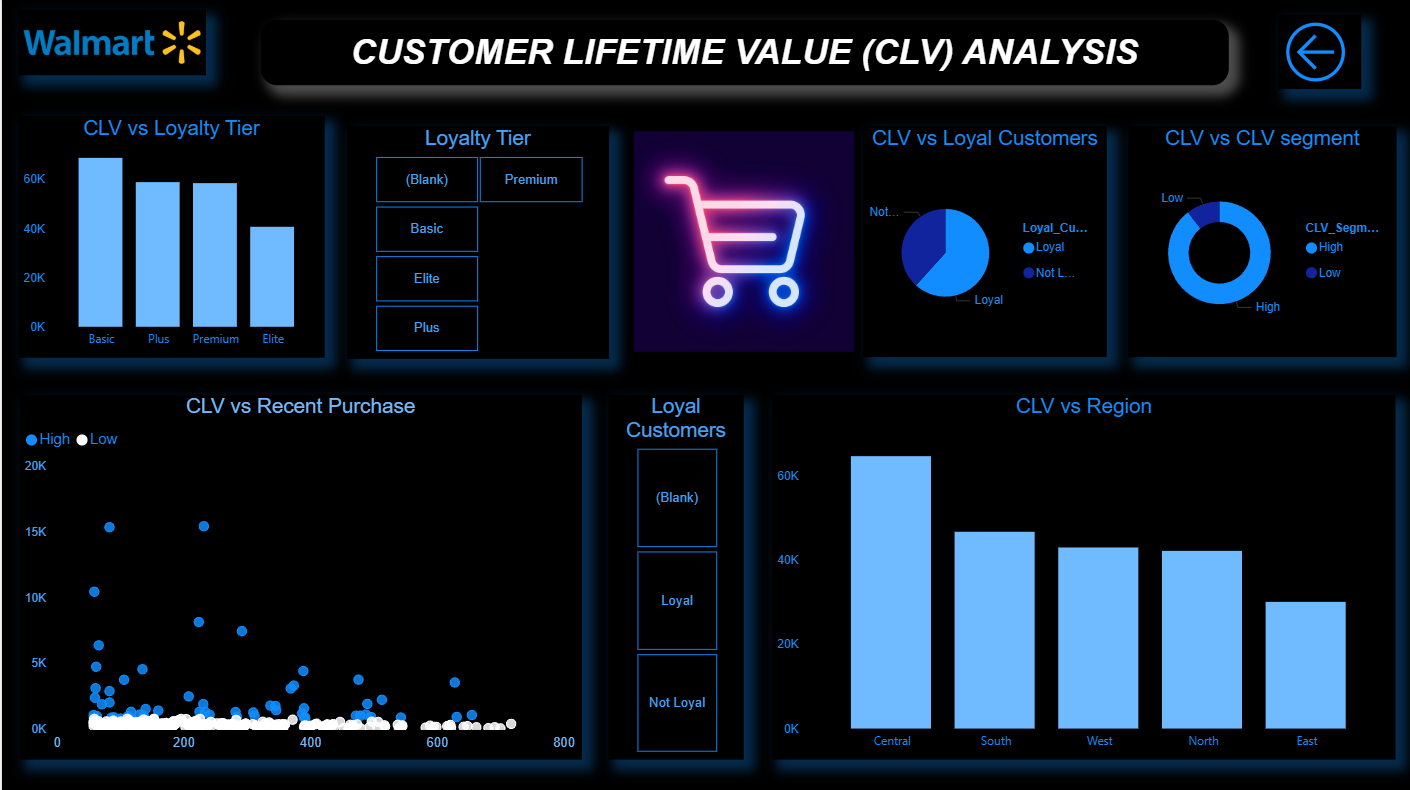

What the dashboard file says about the page in this screenshot:
{"tool":"powerbi","page":{"name":"Customer Lifetime Value (CLV)","canvas":[1280,720],"ordinal":5},"visuals":[{"type":"scatterChart","title":"CLV vs Recent Purchase","fields":{"X":["CLV_Table.Days_Since_last_transaction"],"Y":["CLV_Table.CLV"],"Series":["CLV_Table.CLV_Segment"]},"box":[15.3,360.3,507.8,329.7],"z":0},{"type":"clusteredColumnChart","title":"CLV vs Loyalty Tier","fields":{"Y":["Sum(CLV_Table.CLV)"],"Category":["Loyalty_Program.Loyalty_Tier"]},"box":[15.1,108.1,276.7,218.6],"z":1000},{"type":"clusteredColumnChart","title":"CLV vs Region","fields":{"Y":["Sum(CLV_Table.CLV)"],"Category":["Customer_Demographics.Region"]},"box":[695.7,360.3,563.5,329.7],"z":2000},{"type":"image","box":[15.1,12.8,169.8,59.3],"z":3000},{"type":"textbox","box":[233.7,20.9,874.4,59.3],"z":4000},{"type":"image","box":[564,117.4,214,209.3],"z":5000},{"type":"actionButton","box":[1152.3,17.4,75.6,67.4],"z":6000},{"type":"slicer","title":"Loyalty Tier","fields":{"Values":["Loyalty_Program.Loyalty_Tier"]},"box":[311.7,116.9,236.5,210.1],"z":7000},{"type":"slicer","title":"Loyal Customers","fields":{"Values":["Transaction_count.Loyal_Customers "]},"box":[548.2,360.3,122.4,329.7],"z":8000},{"type":"pieChart","title":"CLV vs Loyal Customers","fields":{"Y":["Avg(CLV_Table.CLV)"],"Category":["Transaction_count.Loyal_Customers "]},"box":[777.7,116.9,219.8,208.7],"z":9000},{"type":"donutChart","title":"CLV vs CLV segment","fields":{"Y":["Avg(CLV_Table.CLV)"],"Category":["CLV_Table.CLV_Segment"]},"box":[1017,116.9,242.1,208.7],"z":10000}]}

Visuals, with their boxes in screenshot pixels (x1, y1, x2, y2), scaled from the page's 1280x720 canvas onto the 1410x790 screenshot:
"CLV vs Recent Purchase" scatterChart: 17, 395, 576, 757
"CLV vs Loyalty Tier" clusteredColumnChart: 17, 119, 321, 358
"CLV vs Region" clusteredColumnChart: 766, 395, 1387, 757
image: 17, 14, 204, 79
textbox: 257, 23, 1221, 88
image: 621, 129, 857, 358
actionButton: 1269, 19, 1353, 93
"Loyalty Tier" slicer: 343, 128, 604, 359
"Loyal Customers" slicer: 604, 395, 739, 757
"CLV vs Loyal Customers" pieChart: 857, 128, 1099, 357
"CLV vs CLV segment" donutChart: 1120, 128, 1387, 357
